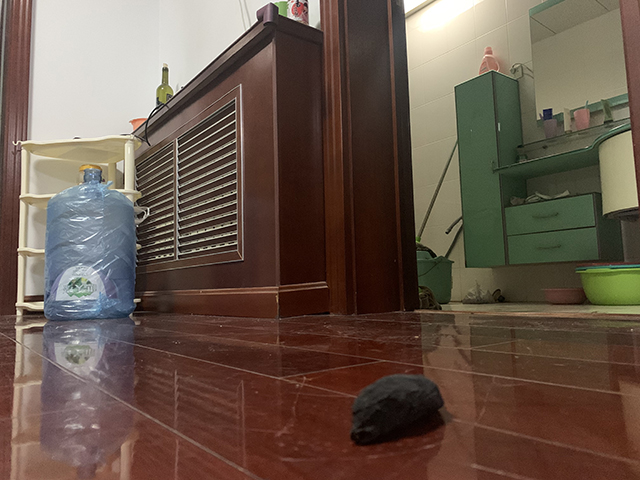cabinet: (130, 11, 330, 319)
feces: (348, 373, 444, 443)
trashcan: (417, 248, 456, 304)
